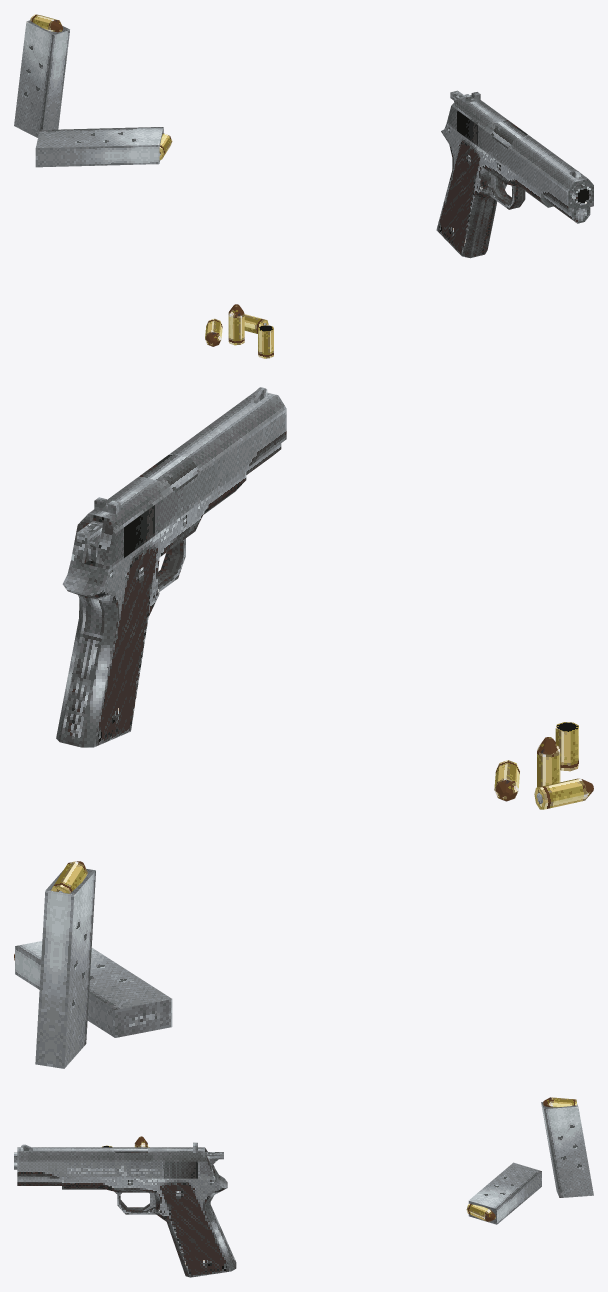
Rendered from lowpoly_-_colt_m1911_-_ps1__psx_style.glb.
The picture shows the model from 3 angles, top to bottom: view 1: azimuth 30°, elevation 25°; view 2: azimuth 150°, elevation 25°; view 3: azimuth 270°, elevation 25°; orthographic projection. The views are drawn at different scales.
Parts seen in each view (by area): view 1: Colt_M1911, MAGAZINE3, MAGAZINE2, BULLET3, SHELL; view 2: Colt_M1911, MAGAZINE3, MAGAZINE2, BULLET1, BULLET3, SHELL, BULLET2; view 3: Colt_M1911, MAGAZINE3, MAGAZINE2.
Part boxes in pixels (bbox=[...]): Colt_M1911: bbox=[436, 92, 593, 258]; MAGAZINE3: bbox=[14, 14, 69, 137]; MAGAZINE2: bbox=[35, 127, 172, 167]; BULLET3: bbox=[228, 304, 244, 345]; SHELL: bbox=[258, 325, 273, 358]; Colt_M1911: bbox=[56, 387, 286, 747]; MAGAZINE3: bbox=[35, 861, 95, 1068]; MAGAZINE2: bbox=[14, 941, 172, 1037]; BULLET1: bbox=[534, 778, 593, 809]; BULLET3: bbox=[537, 737, 560, 787]; SHELL: bbox=[555, 722, 578, 771]; BULLET2: bbox=[494, 760, 519, 801]; Colt_M1911: bbox=[17, 1142, 236, 1277]; MAGAZINE3: bbox=[541, 1097, 593, 1197]; MAGAZINE2: bbox=[466, 1162, 541, 1224].
Bounding box in the file's own units: 0.3302 × 0.1602 × 0.6586.
1 material, 1 textured.
